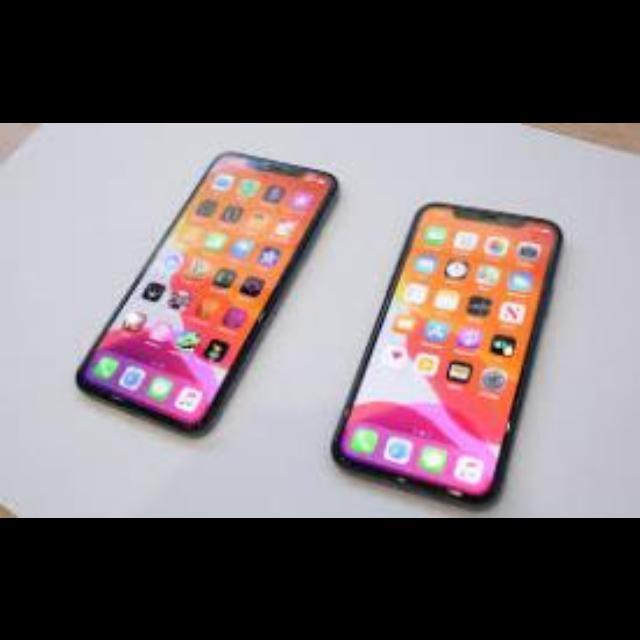phone: (70, 132, 341, 476), (346, 184, 572, 508)
